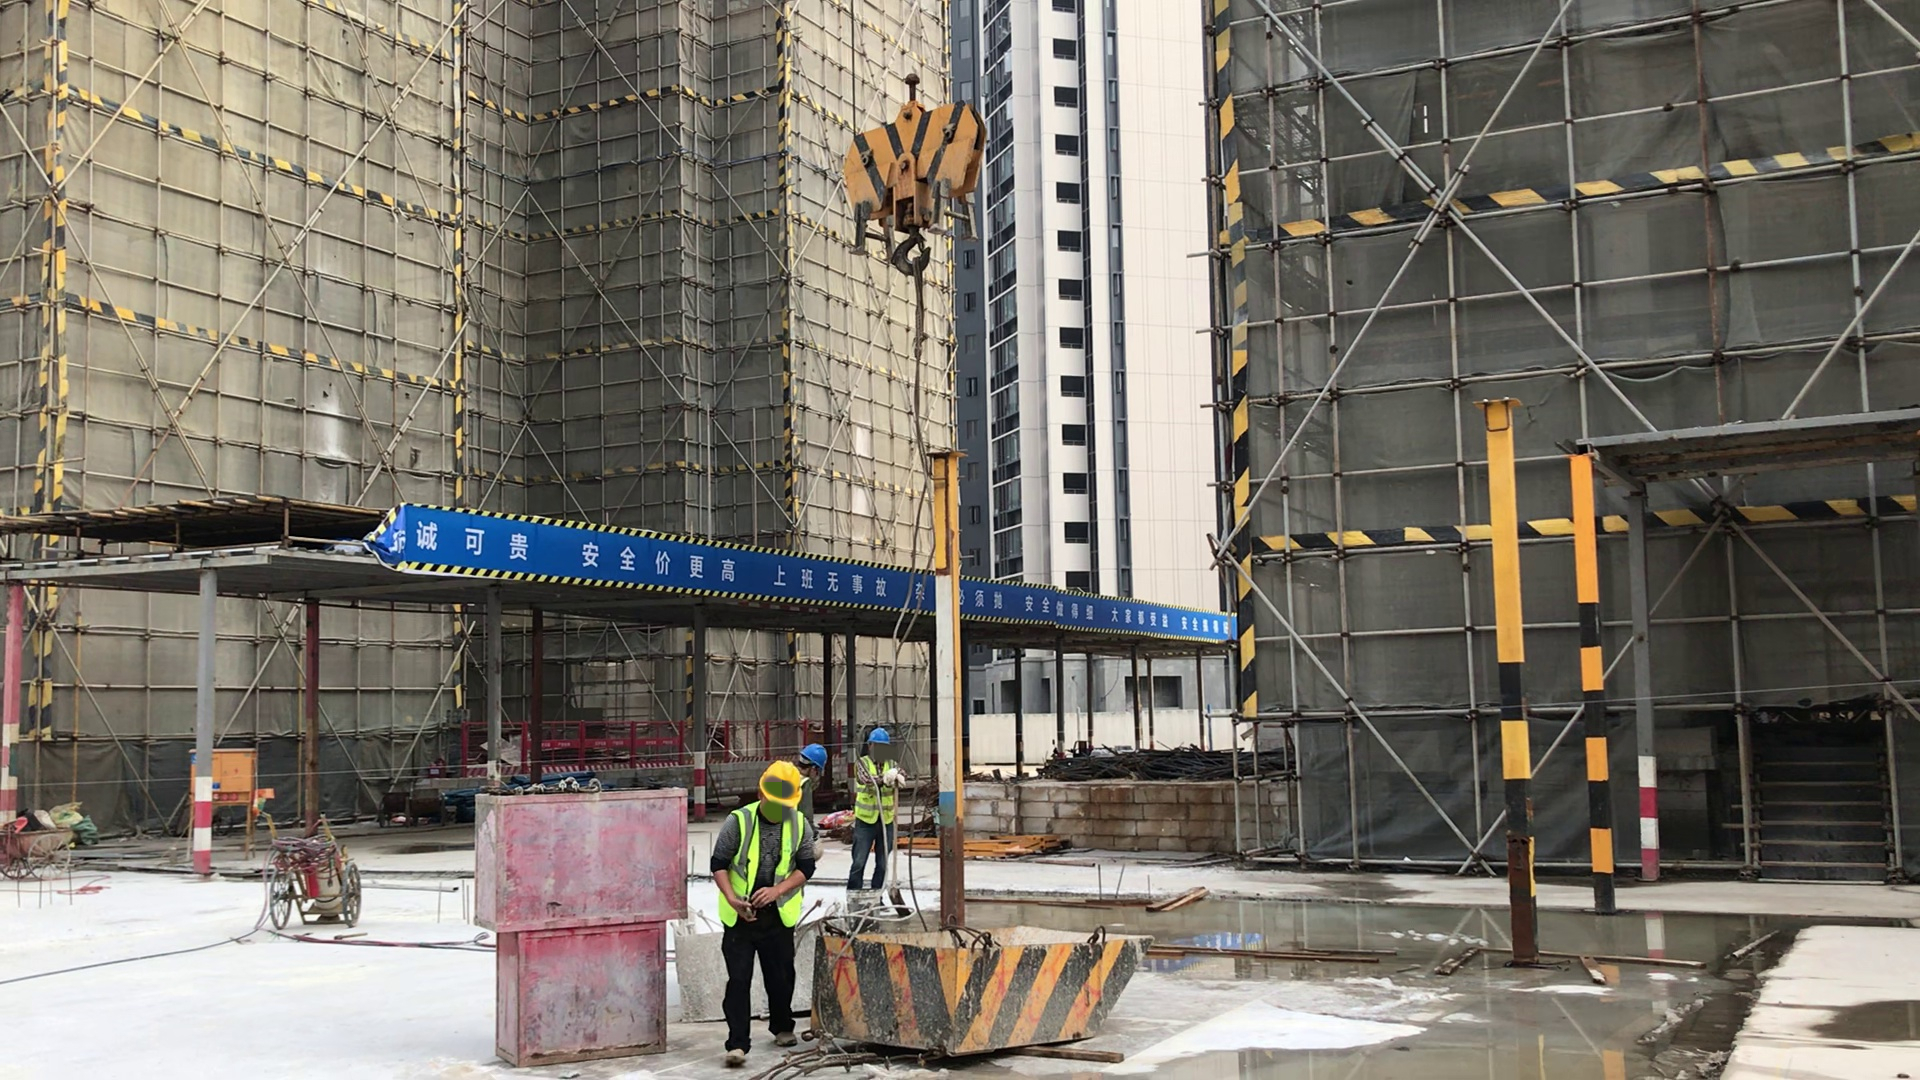ebox: (219, 739, 269, 868)
fence: (414, 509, 895, 611), (973, 579, 1228, 646), (540, 712, 684, 767), (721, 717, 796, 757)
handcart: (256, 809, 370, 931), (1, 822, 70, 885)
helmet: (754, 759, 805, 808), (801, 742, 827, 771), (868, 728, 891, 745)
hook: (834, 67, 985, 275)
hopper: (817, 919, 1156, 1063)
person: (711, 759, 818, 1066), (850, 728, 908, 891)
vest: (719, 799, 806, 931), (854, 756, 896, 828)
